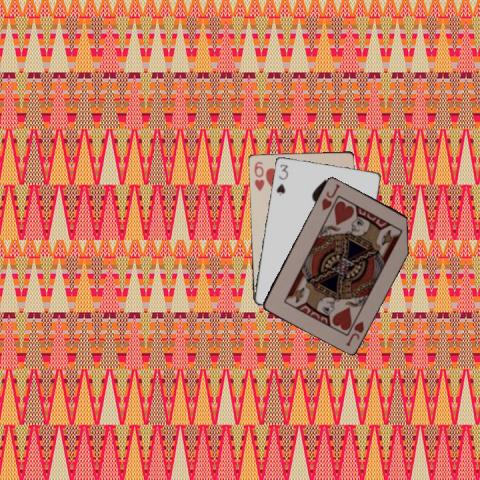3s: (273, 161, 290, 197)
6h: (252, 159, 266, 192)
Jh: (319, 181, 342, 212), (342, 318, 365, 347)
